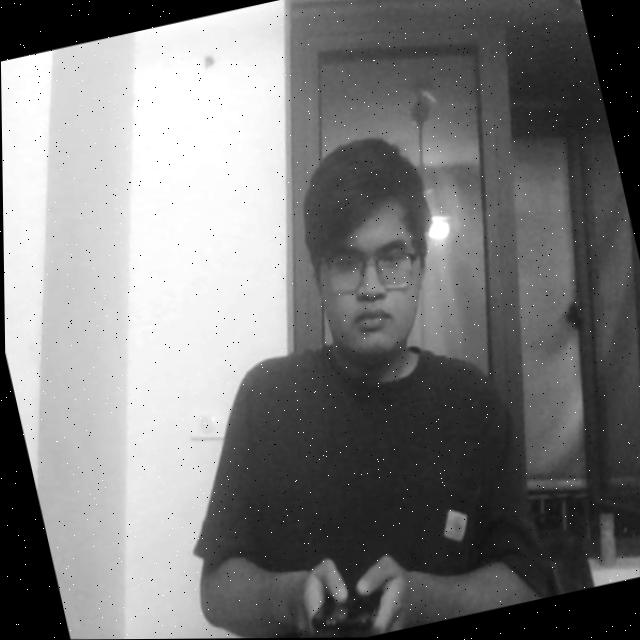phone: (290, 548, 398, 638)
